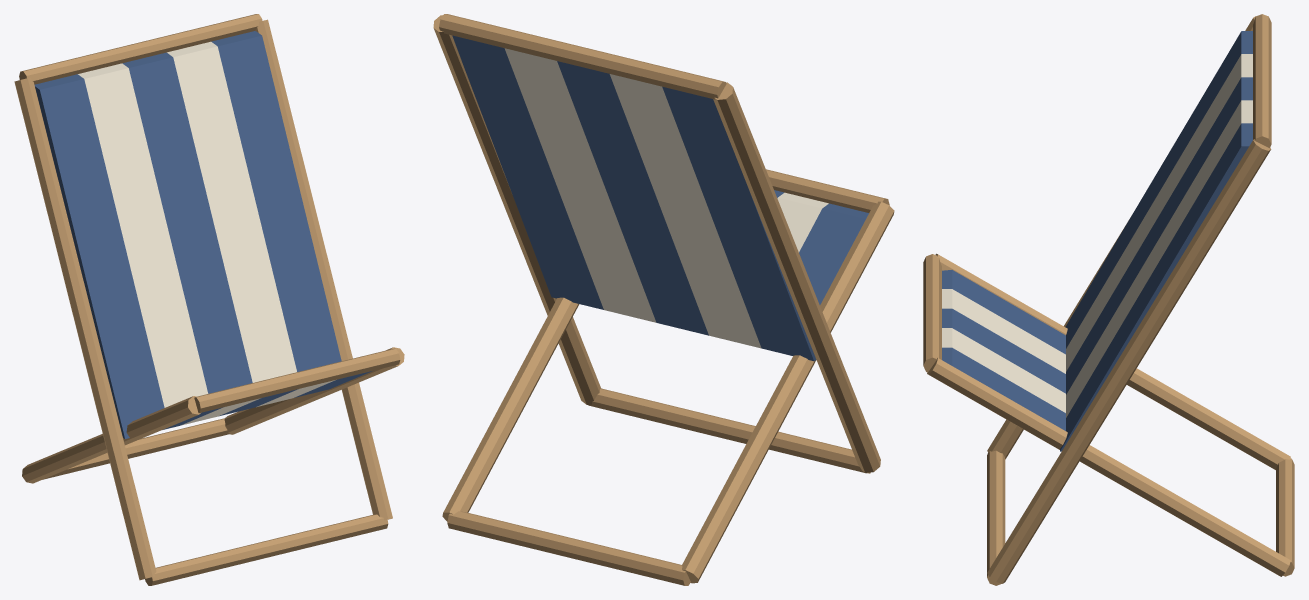
Rendered from FN_Chair_Deck.glb.
The picture shows the model from 3 angles, left to right: view 1: azimuth 30°, elevation 25°; view 2: azimuth 150°, elevation 25°; view 3: azimuth 270°, elevation 25°; orthographic projection. The views are drawn at different scales.
Visible parts, largest first — view 1: FN_Chair_Deck; view 2: FN_Chair_Deck; view 3: FN_Chair_Deck.
Part boxes in pixels (bbox=[...]): FN_Chair_Deck: bbox=[14, 14, 404, 585]; FN_Chair_Deck: bbox=[433, 14, 894, 585]; FN_Chair_Deck: bbox=[923, 14, 1294, 585].
Bounding box in the file's own units: 0.536 × 0.858 × 0.642.
Materials: 1 (1 with a texture image).
